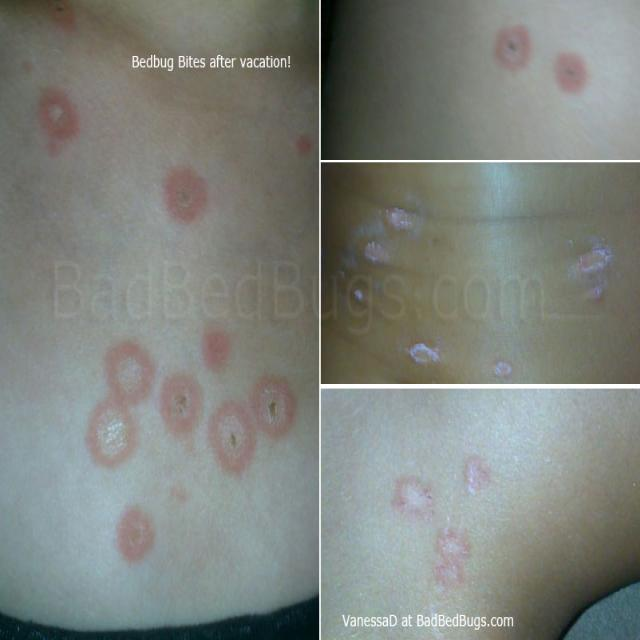kan emici bocekler: (82, 391, 140, 473), (563, 229, 623, 308), (205, 397, 260, 478), (102, 336, 158, 409), (427, 520, 479, 595), (248, 369, 299, 444), (157, 368, 208, 443), (36, 85, 82, 164), (112, 497, 158, 572), (160, 161, 211, 228), (387, 471, 442, 523), (490, 19, 533, 79), (551, 49, 591, 96), (197, 327, 234, 376), (378, 198, 423, 237), (395, 335, 448, 368), (459, 451, 495, 498), (361, 236, 393, 265), (490, 356, 517, 381)
